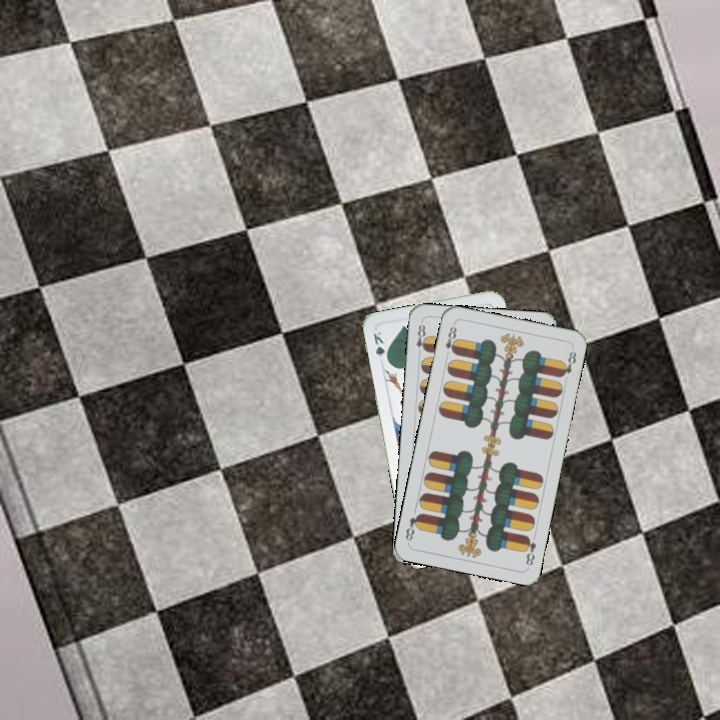E8: (520, 532, 539, 569), (412, 320, 430, 359), (441, 320, 460, 356)
GK: (369, 327, 391, 366)
